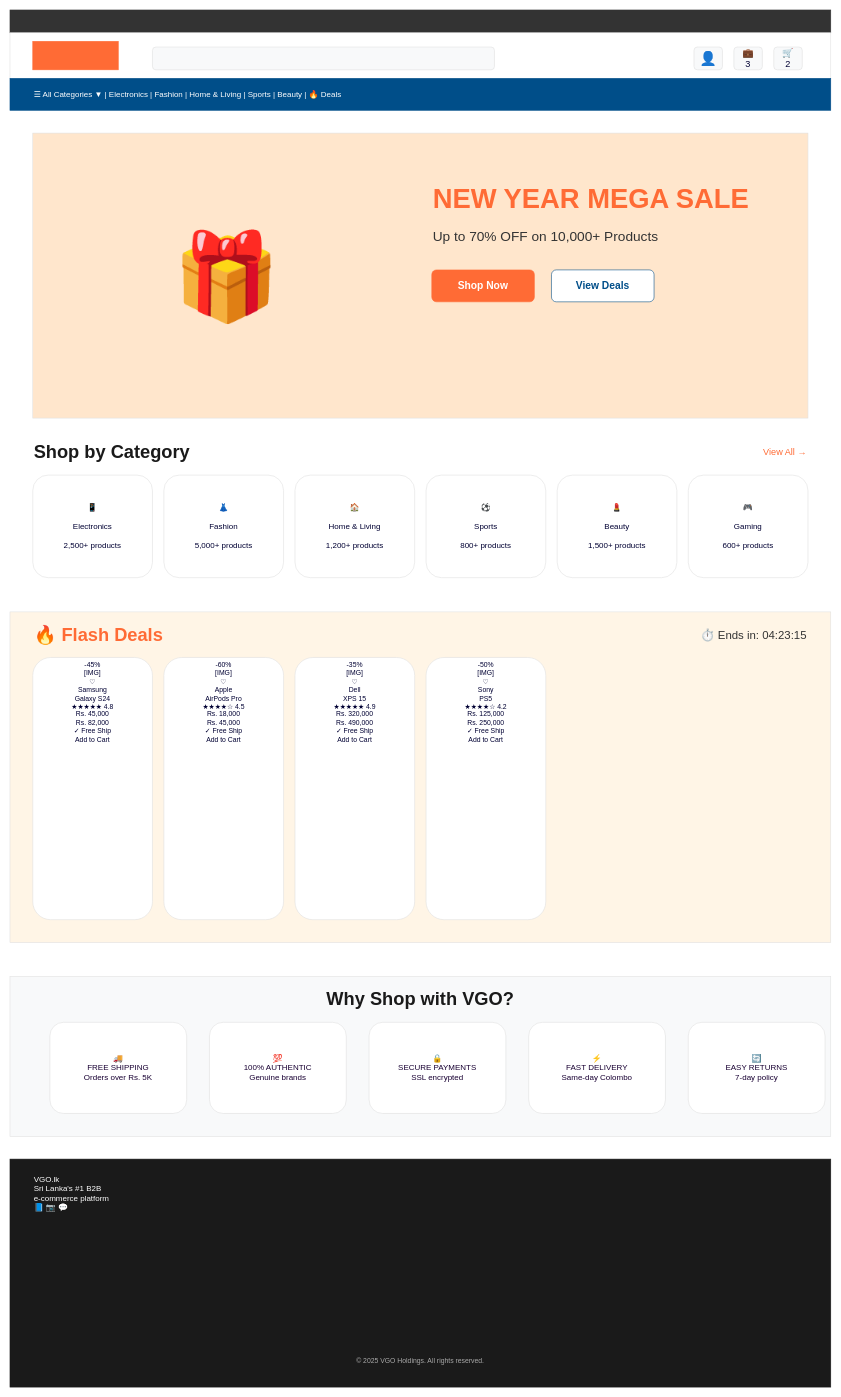
Image size: 841x1397. Some labels were removed from this diagram. The shapes that lost their labels are listed below. From the top down, each one's centre as x and y in pixels, then its label:
At point 420,21: "📞 Hotline: 0112 345 678 | 📧 support@vgo.lk".
At point 75,55: "VGO".
At point 323,58: "🔍 Search products, brands, categories...".
